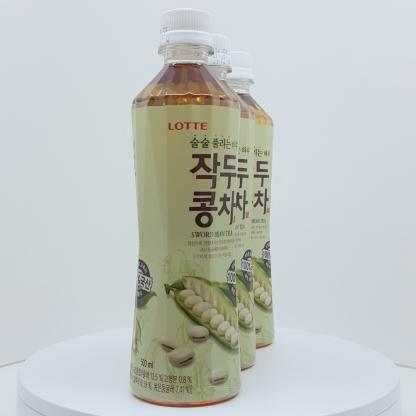--------------500ML: (130, 8, 241, 408)
